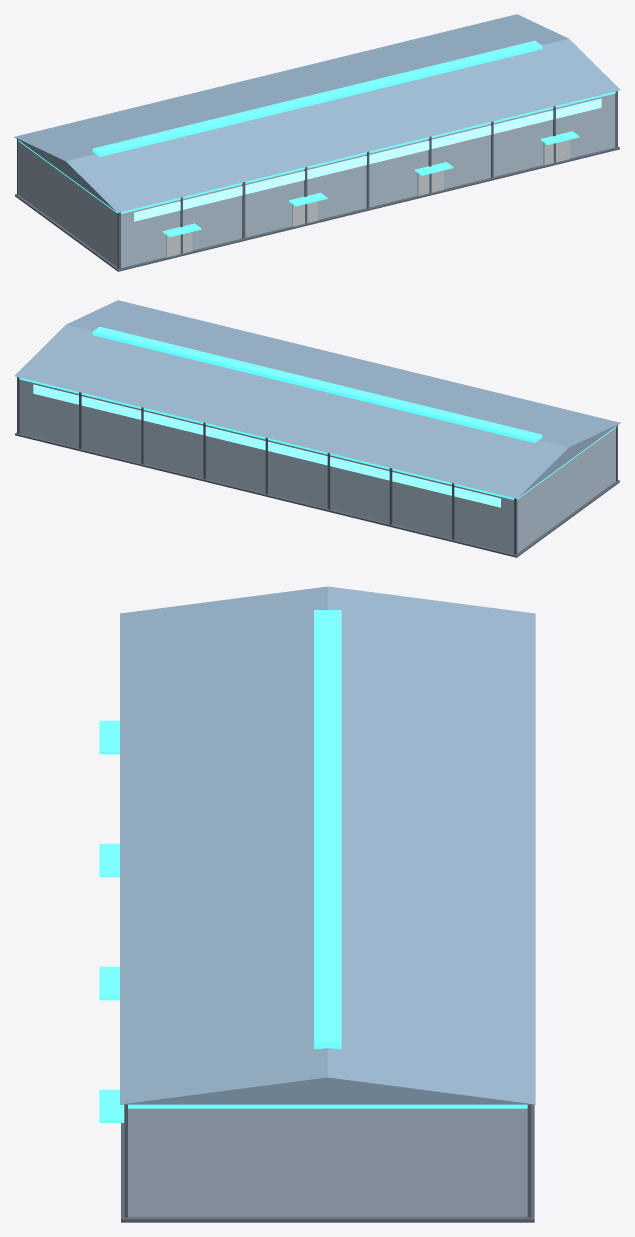
The model's file is planned-reserve-wh-v5-medium.glb.
3 renders of one model, top to bottom at view 1: azimuth 30°, elevation 25°; view 2: azimuth 150°, elevation 25°; view 3: azimuth 270°, elevation 25°, orthographic. The views are drawn at different scales.
Visible parts, largest first — view 1: planned-reserve-wh-v5-v5_planned_roof, planned-reserve-wh-v5-v5_planned_wall, planned-reserve-wh-v5-v5_site_cyan, planned-reserve-wh-v5-v5_curtain_glass, planned-reserve-wh-v5-v5_site_dark, planned-reserve-wh-v5-v5_site_silver; view 2: planned-reserve-wh-v5-v5_planned_roof, planned-reserve-wh-v5-v5_planned_wall, planned-reserve-wh-v5-v5_site_cyan, planned-reserve-wh-v5-v5_curtain_glass, planned-reserve-wh-v5-v5_site_dark; view 3: planned-reserve-wh-v5-v5_planned_roof, planned-reserve-wh-v5-v5_planned_wall, planned-reserve-wh-v5-v5_site_cyan, planned-reserve-wh-v5-v5_site_dark.
Part boxes in pixels (x1,y1,x2,y2): planned-reserve-wh-v5-v5_planned_roof: (14,14,620,212); planned-reserve-wh-v5-v5_planned_wall: (19,93,615,267); planned-reserve-wh-v5-v5_site_cyan: (18,40,615,237); planned-reserve-wh-v5-v5_curtain_glass: (134,98,601,221); planned-reserve-wh-v5-v5_site_dark: (15,91,619,271); planned-reserve-wh-v5-v5_site_silver: (166,140,569,257); planned-reserve-wh-v5-v5_planned_roof: (14,300,620,498); planned-reserve-wh-v5-v5_planned_wall: (19,379,615,553); planned-reserve-wh-v5-v5_site_cyan: (19,326,616,499); planned-reserve-wh-v5-v5_curtain_glass: (33,384,500,507); planned-reserve-wh-v5-v5_site_dark: (15,377,619,557); planned-reserve-wh-v5-v5_planned_roof: (120,586,535,1104); planned-reserve-wh-v5-v5_planned_wall: (128,1108,527,1216); planned-reserve-wh-v5-v5_site_cyan: (99,610,527,1122); planned-reserve-wh-v5-v5_site_dark: (121,1104,534,1222).
Size of the model in its own units: 101 by 14.58 by 38.01.
